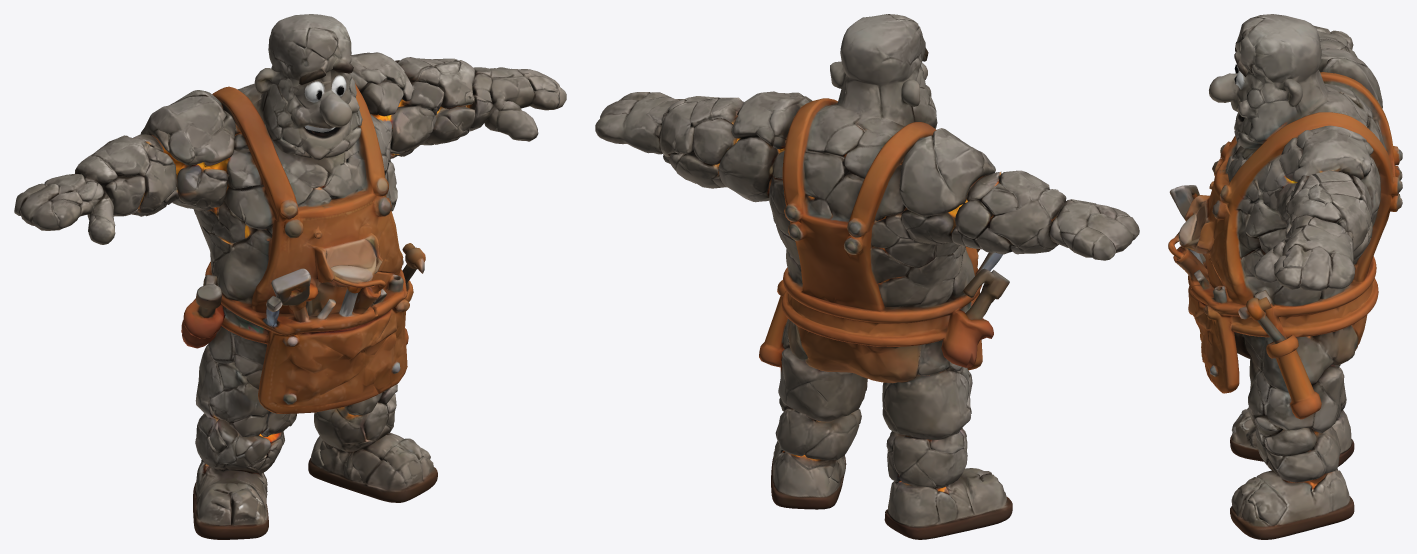
Rendered from benchwright_bo.glb.
3 renders of one model, left to right at view 1: azimuth 30°, elevation 25°; view 2: azimuth 150°, elevation 25°; view 3: azimuth 270°, elevation 25°, orthographic. The views are drawn at different scales.
Visible parts, largest first — view 1: benchwright_bo; view 2: benchwright_bo; view 3: benchwright_bo.
Part boxes in pixels (x1=…): benchwright_bo: x1=14, y1=14, x2=566, y2=539; benchwright_bo: x1=595, y1=14, x2=1139, y2=539; benchwright_bo: x1=1168, y1=14, x2=1402, y2=539.
Size of the model in its own units: 2.02 by 1.75 by 0.7965.
Materials: 1 (1 with a texture image).
